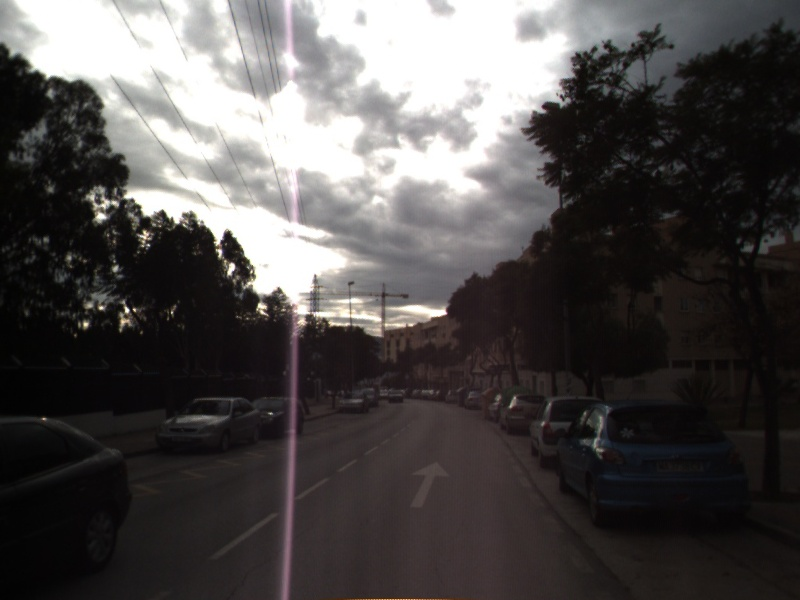STRAIGHT: (408, 459, 452, 510)
